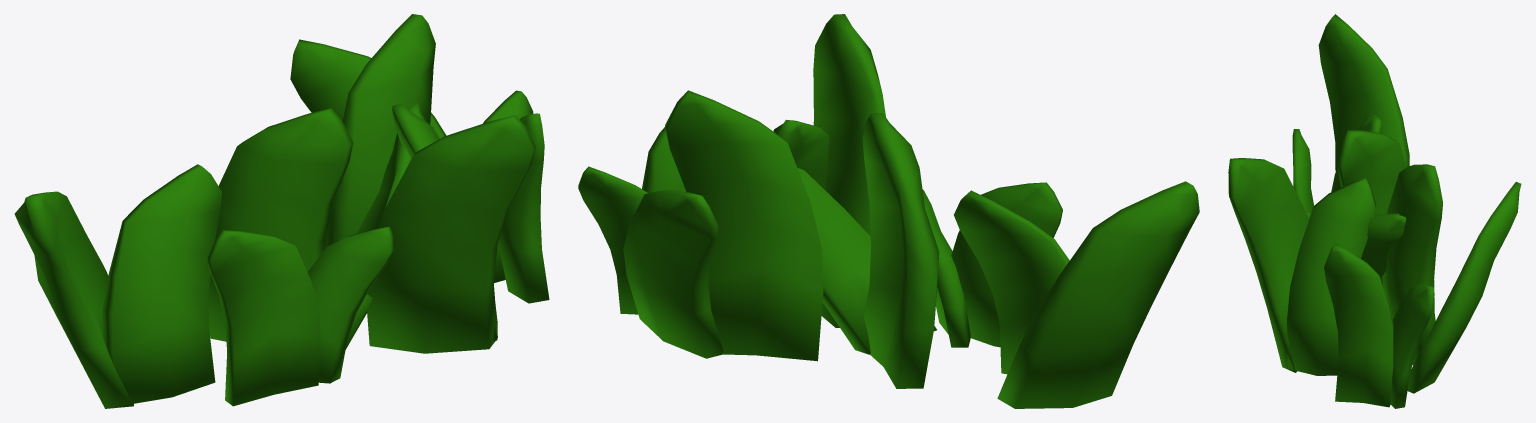
Rendered from grass-06_col.fbx.
3 views of the same model, side by side, from view 1: azimuth 30°, elevation 25°; view 2: azimuth 150°, elevation 25°; view 3: azimuth 270°, elevation 25° (orthographic). The views are drawn at different scales.
Parts seen in each view (by area): view 1: grass-06.col; view 2: grass-06.col; view 3: grass-06.col.
Boxes of the visible parts, x1,y1,x2,y2 form: grass-06.col: (14,14,549,408); grass-06.col: (578,14,1199,408); grass-06.col: (1228,14,1521,408).
Bounding box in the file's own units: 0.2566 × 0.1128 × 0.1438.
Materials: 1 (1 with a texture image).
